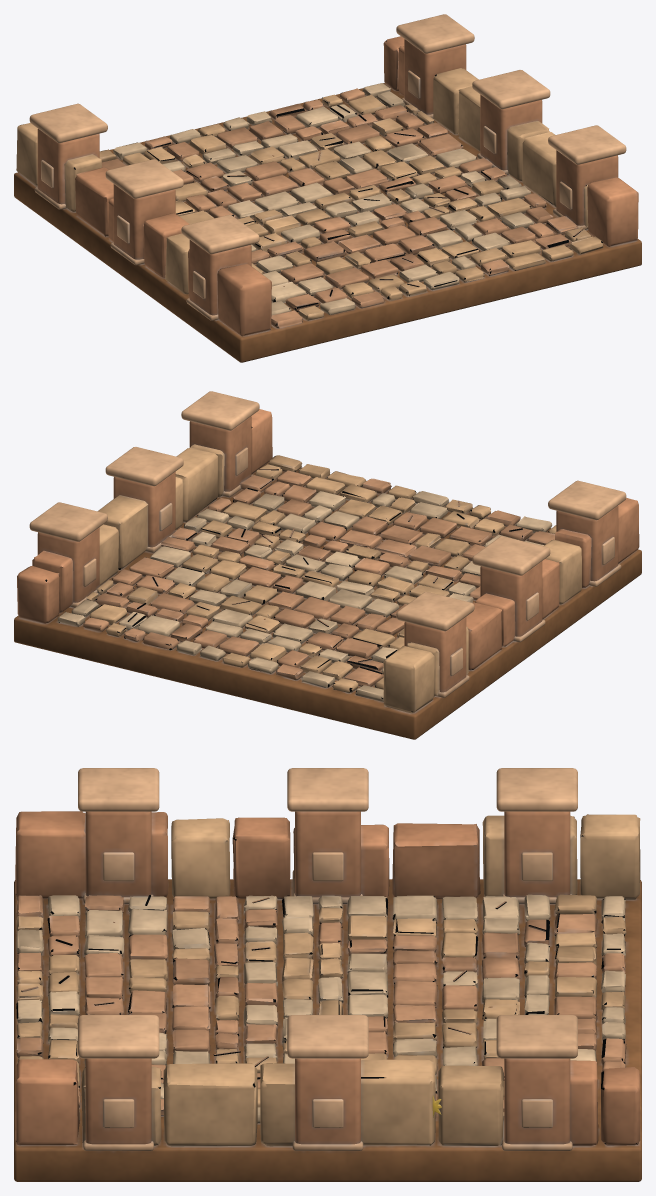
The model's file is sd_path_segment.glb.
3 renders of one model, top to bottom at view 1: azimuth 30°, elevation 25°; view 2: azimuth 150°, elevation 25°; view 3: azimuth 270°, elevation 25°, orthographic. The views are drawn at different scales.
Parts seen in each view (by area): view 1: sd_path_segment; view 2: sd_path_segment; view 3: sd_path_segment.
Part boxes in pixels (<box>): sd_path_segment: <box>14,14,641,362</box>; sd_path_segment: <box>14,391,641,739</box>; sd_path_segment: <box>14,768,641,1181</box>.
Bounding box in the file's own units: 10.6 × 2.47 × 10.
Materials: 7 (7 with a texture image).
